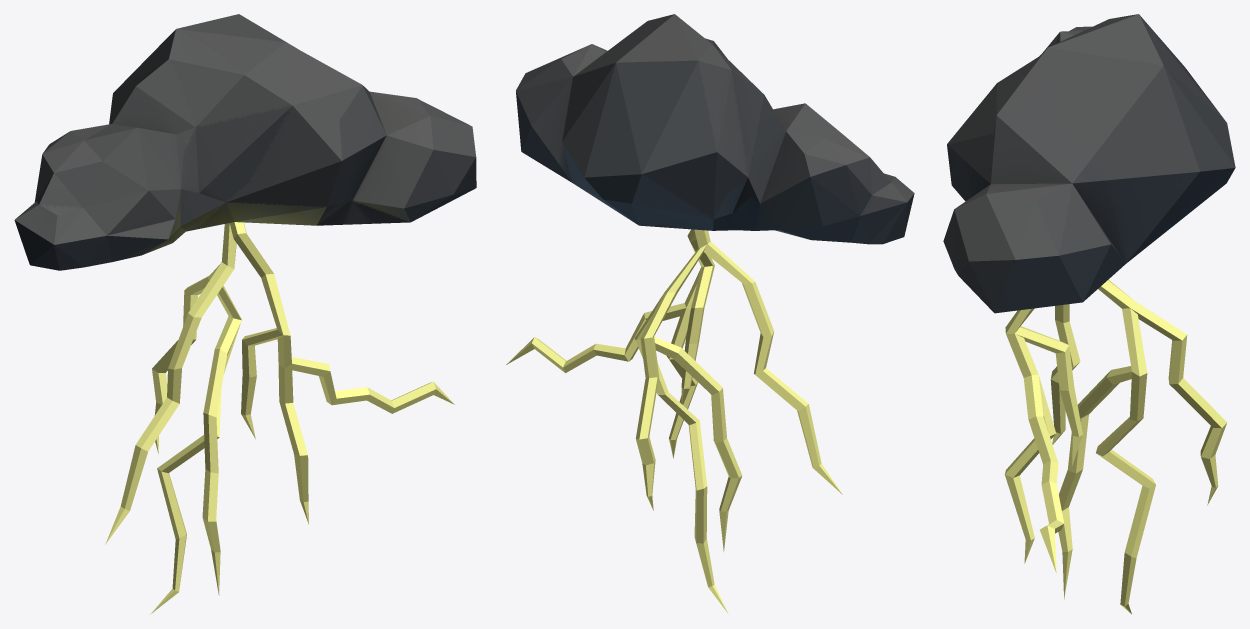
File: lightning_bolt.obj
3 renders of one model, left to right at view 1: azimuth 30°, elevation 25°; view 2: azimuth 150°, elevation 25°; view 3: azimuth 270°, elevation 25°, orthographic. The views are drawn at different scales.
Visible parts, largest first — view 1: lightning_bolt; view 2: lightning_bolt; view 3: lightning_bolt.
Part boxes in pixels (x1=…): lightning_bolt: x1=14, y1=14, x2=476, y2=614; lightning_bolt: x1=506, y1=14, x2=914, y2=613; lightning_bolt: x1=943, y1=14, x2=1235, y2=614.
Size of the model in its own units: 2.29 by 2.93 by 1.26.
Materials: 1 (1 with a texture image).
